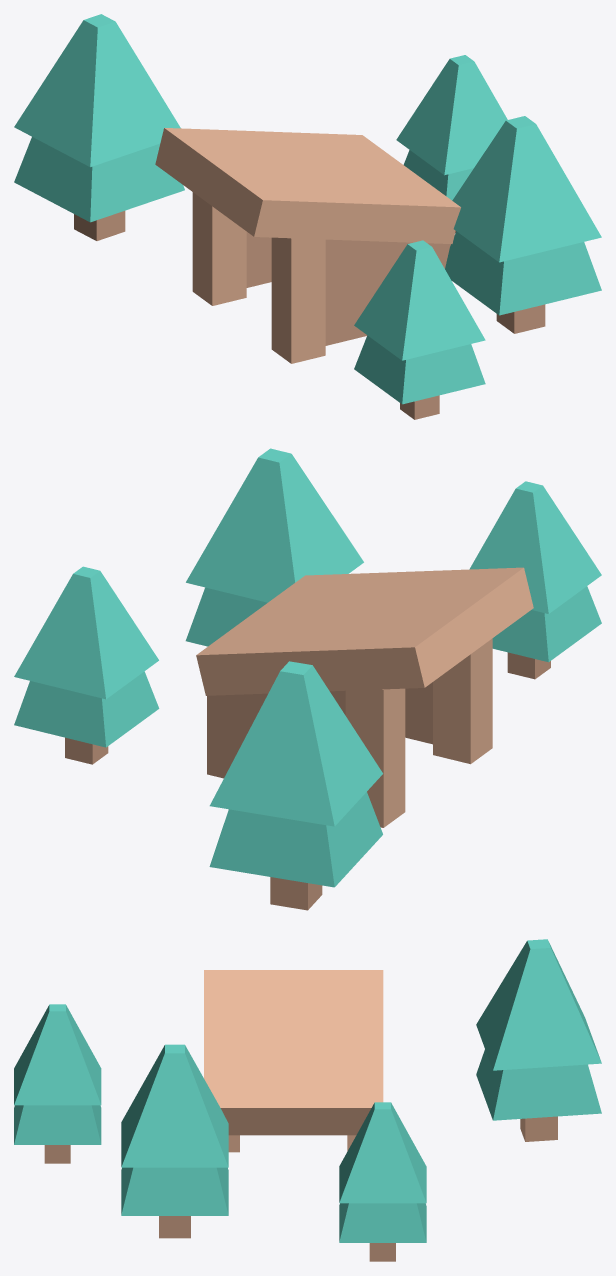
Rendered from Storagelvl1.fbx.
3 renders of one model, top to bottom at view 1: azimuth 30°, elevation 25°; view 2: azimuth 150°, elevation 25°; view 3: azimuth 270°, elevation 25°, orthographic. The views are drawn at different scales.
Visible parts, largest first — view 1: Storage1, Tree1, Tree4, Tree2, Tree3; view 2: Storage1, Tree1, Tree3, Tree4, Tree2; view 3: Storage1, Tree1, Tree4, Tree3, Tree2.
Boxes of the visible parts, box(x1,y1,x2,y2) form: Storage1: box(155, 128, 460, 363); Tree1: box(14, 14, 184, 240); Tree4: box(445, 116, 601, 333); Tree2: box(354, 240, 485, 419); Tree3: box(396, 55, 507, 232); Storage1: box(196, 567, 533, 827); Tree1: box(209, 661, 382, 910); Tree3: box(14, 566, 159, 764); Tree4: box(185, 448, 363, 646); Tree2: box(469, 481, 601, 679); Storage1: box(204, 970, 383, 1152); Tree1: box(476, 939, 601, 1141); Tree4: box(121, 1044, 228, 1238); Tree3: box(339, 1102, 426, 1261); Tree2: box(14, 1004, 101, 1163).
Bounding box in the file's own units: 55.24 × 29.26 × 82.1.
